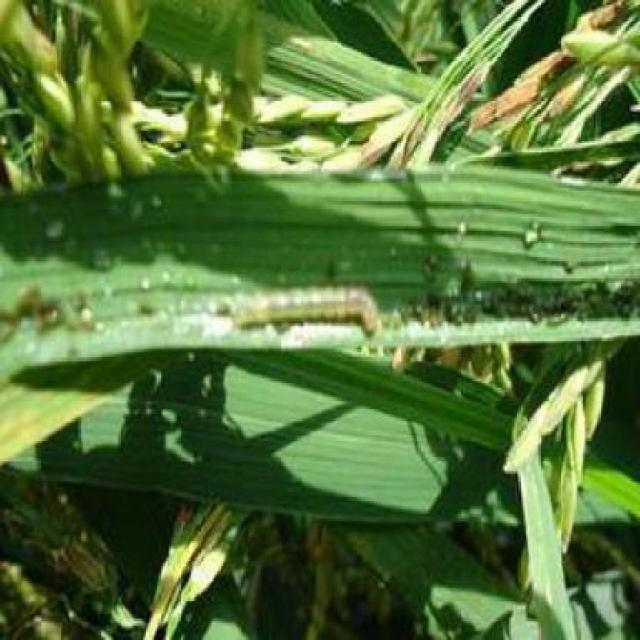leaf-folder: (207, 245, 456, 368)
